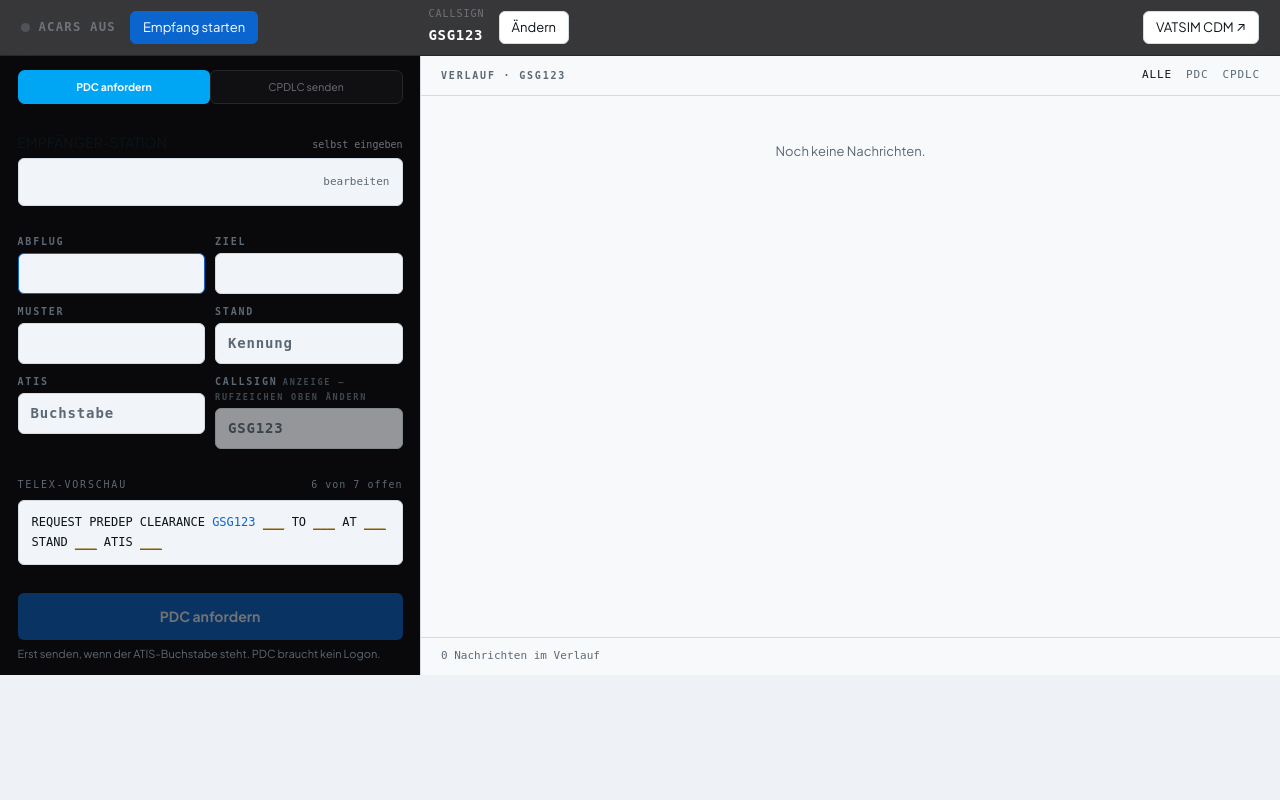
CpdlcPanel connection flow › clears the station field once a session ends, instead of leaving the dead station behind
The image size is (1280, 800).
Expected: the text "ACARS AUS" is shown, [21,19,116,36]
Click the button "Empfang starten" at (194, 28), box [130,11,258,44]
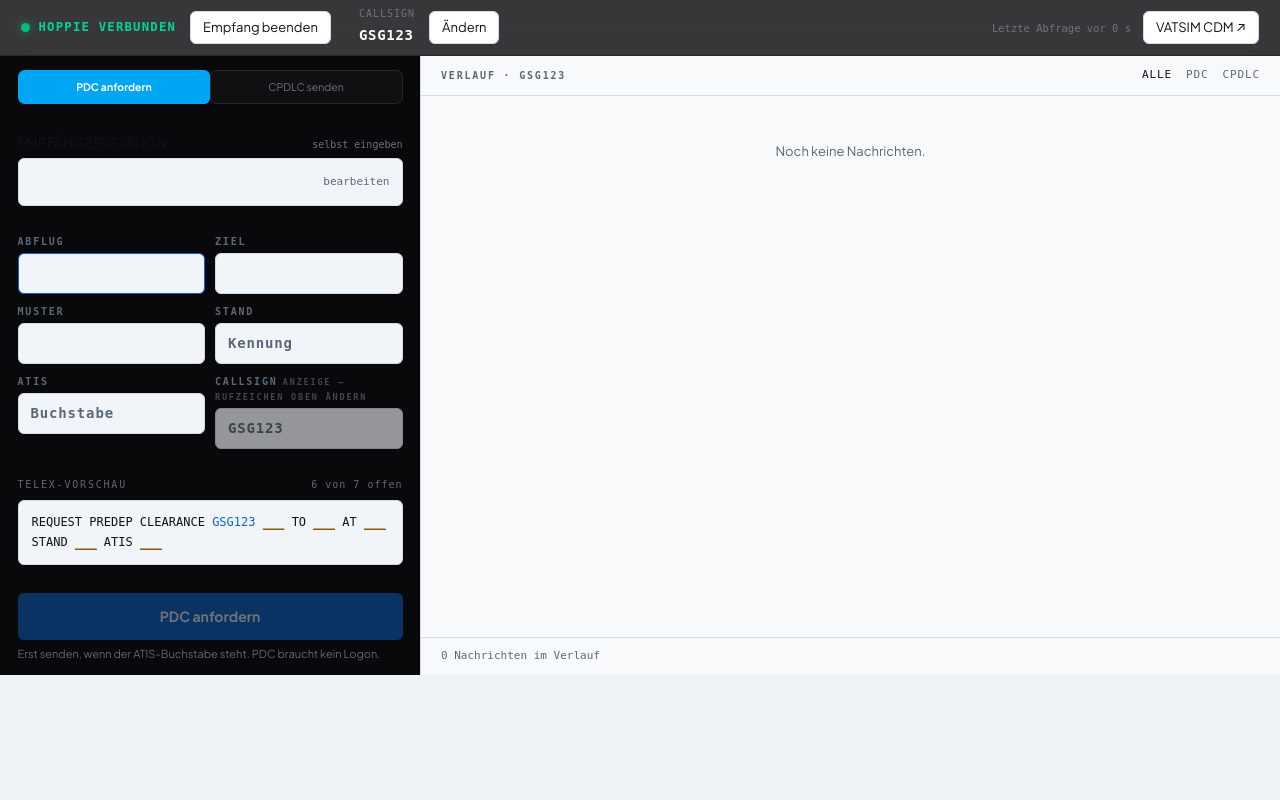
Now the text "HOPPIE VERBUNDEN" is shown, box [21,19,176,36]
Click the tab "CPDLC senden" at (306, 87), box [210,70,402,104]
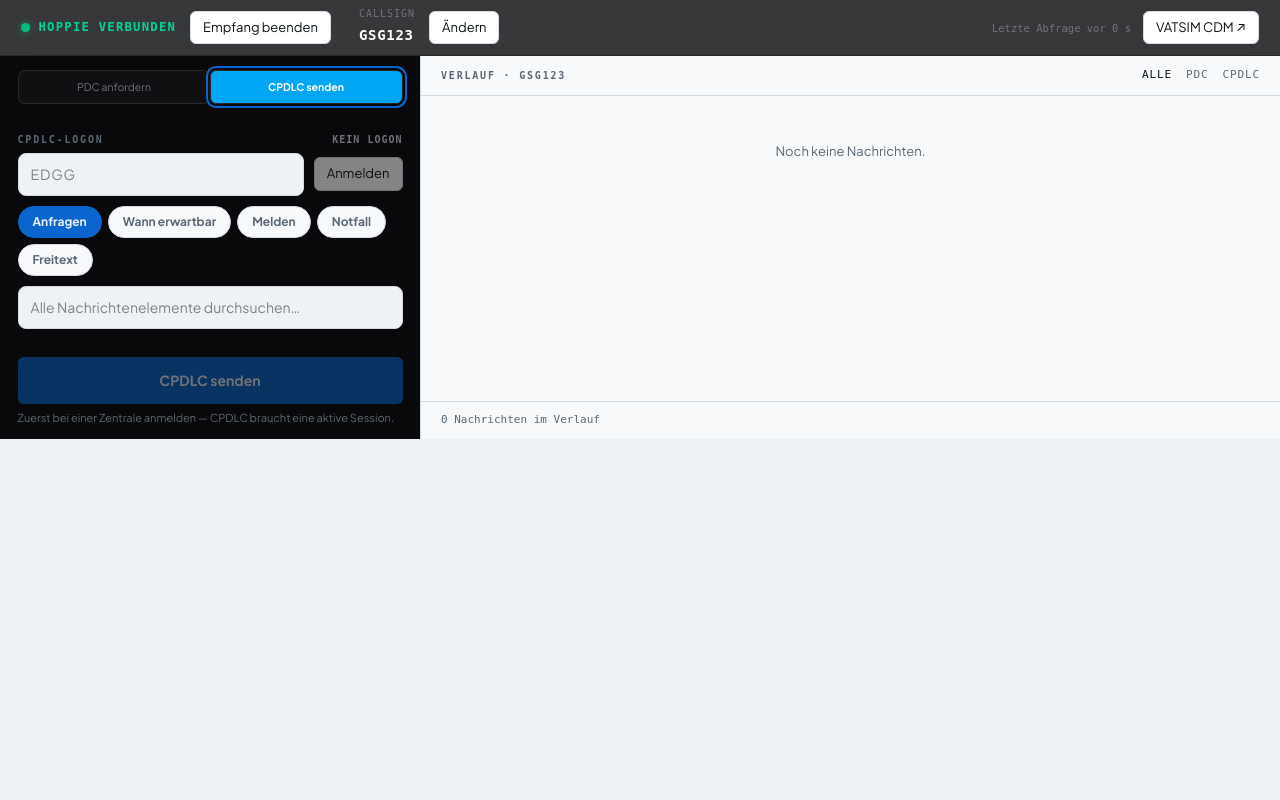
Expected: the text "KEIN LOGON" is shown, [332,132,402,146]
Type "lbsr" into the field with placeholder "EDGG" at (161, 174), box [18,152,304,196]
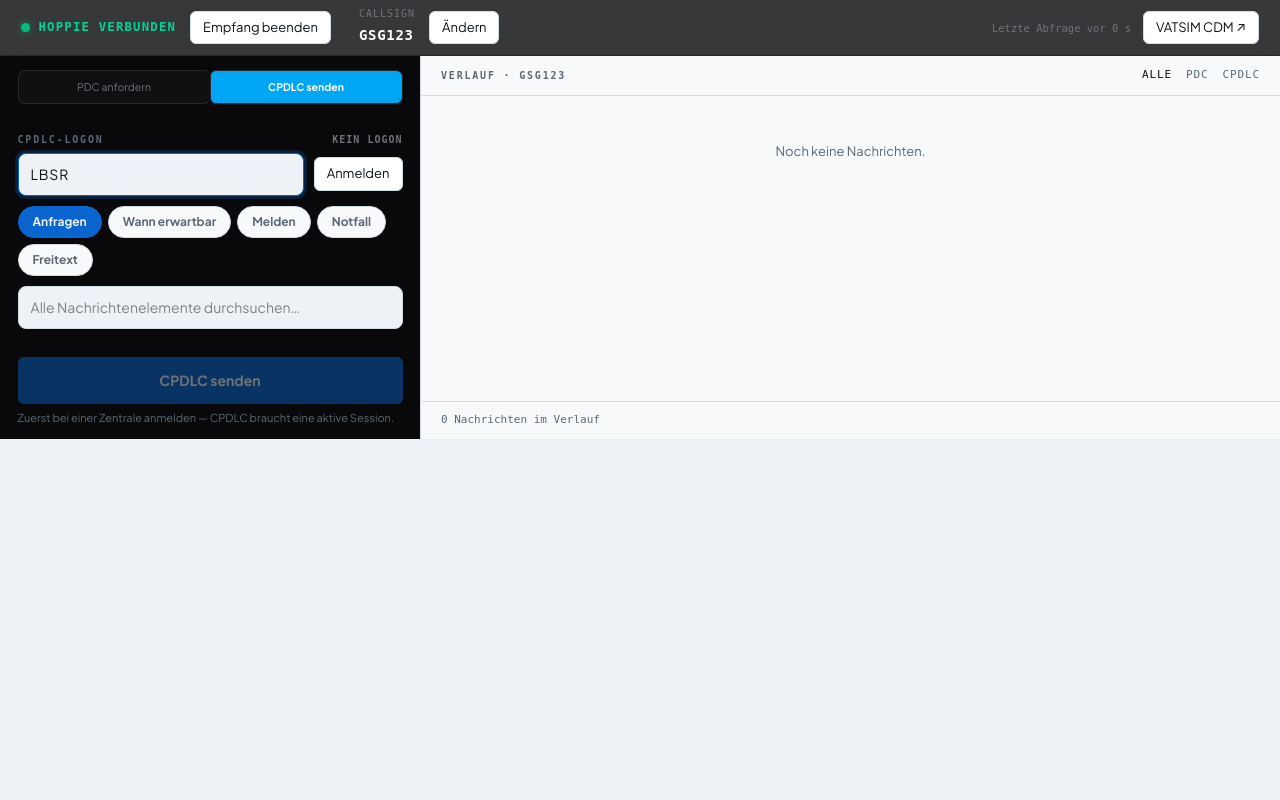
Click the button "Anmelden" at (358, 174), box [314,157,402,191]
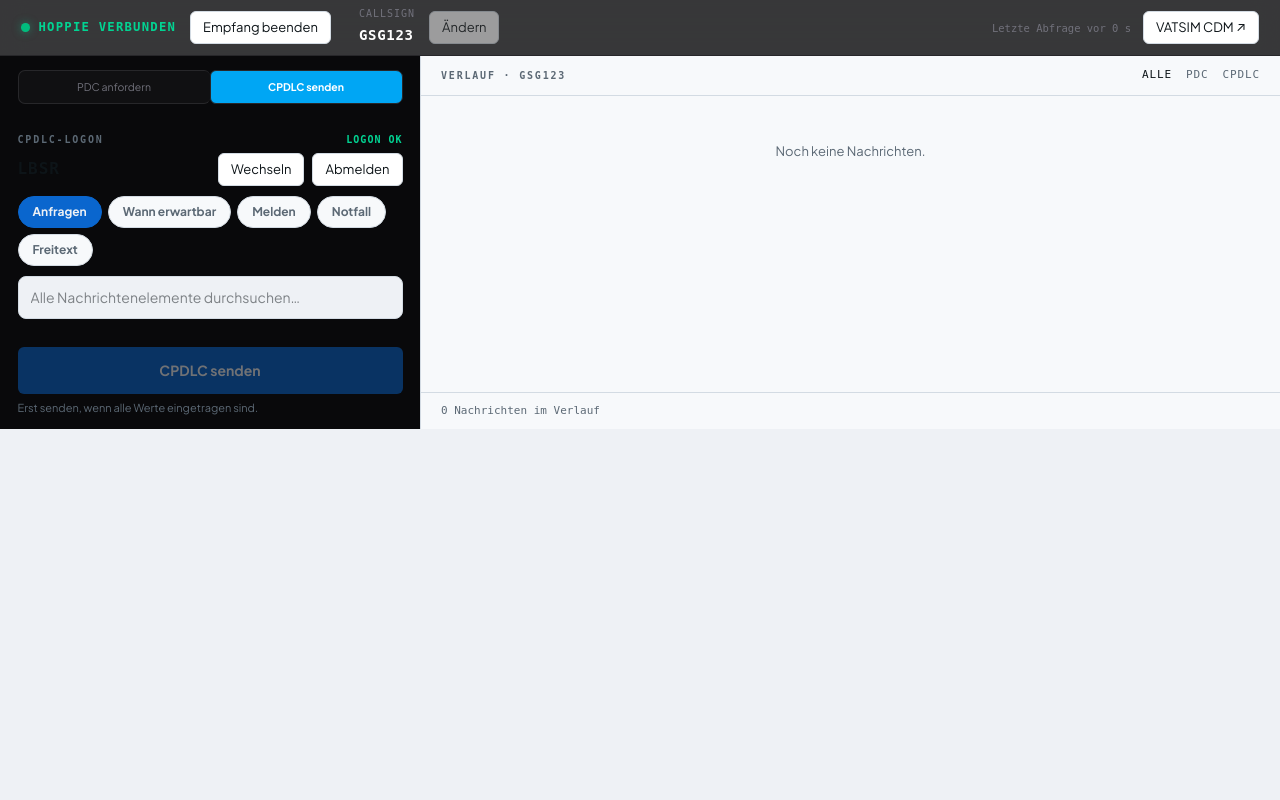
Now the text "LOGON OK" is shown, box [346,132,402,146]
Click the button "Abmelden" at (358, 169), box [312,152,402,186]
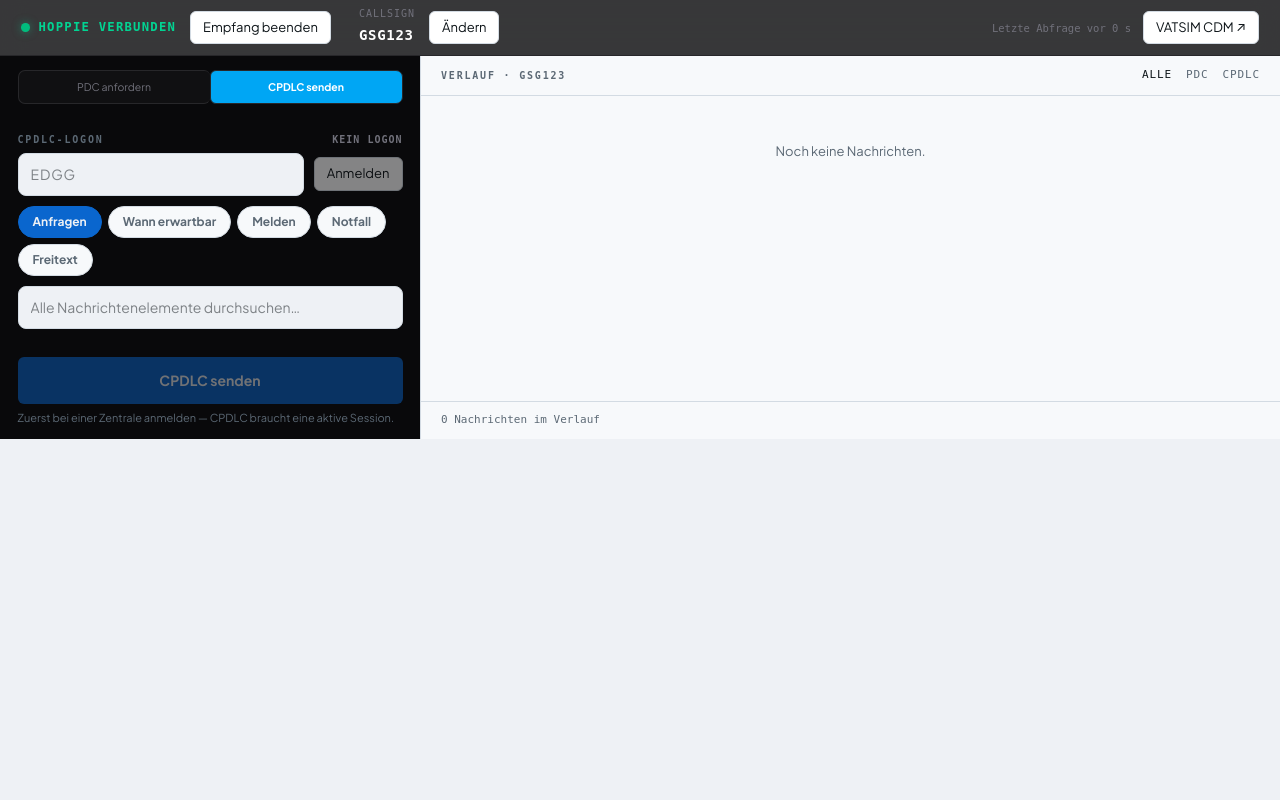
Now the text "KEIN LOGON" is shown, box [332,132,402,146]
Now the field with placeholder "EDGG" is empty, box [18,152,304,196]
